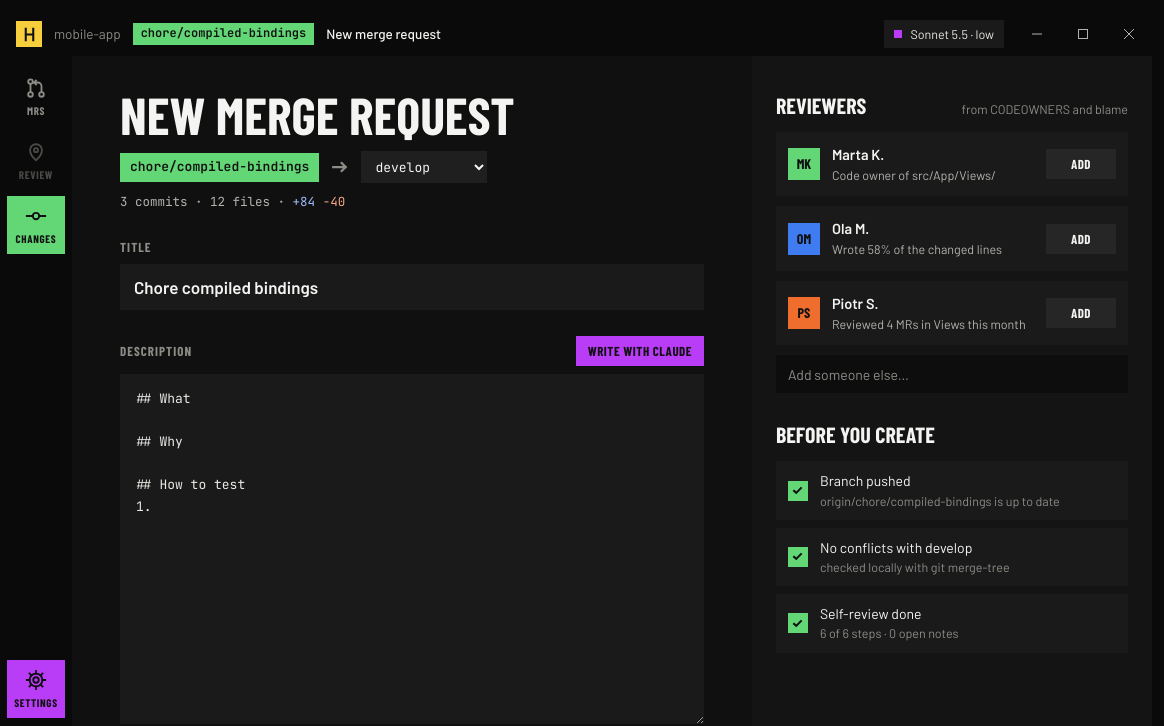
Test: S-11 title and description (F-27.2) › F-27.2 Shorter version and Longer version regenerate; the slot offers the other one next
The image size is (1164, 726).
Check: the field labelled "Title" is not empty, box top-left (120, 264), bottom-right (704, 310)
Click the button "Write with Claude" at [640, 351], box top-left (576, 336), bottom-right (704, 366)
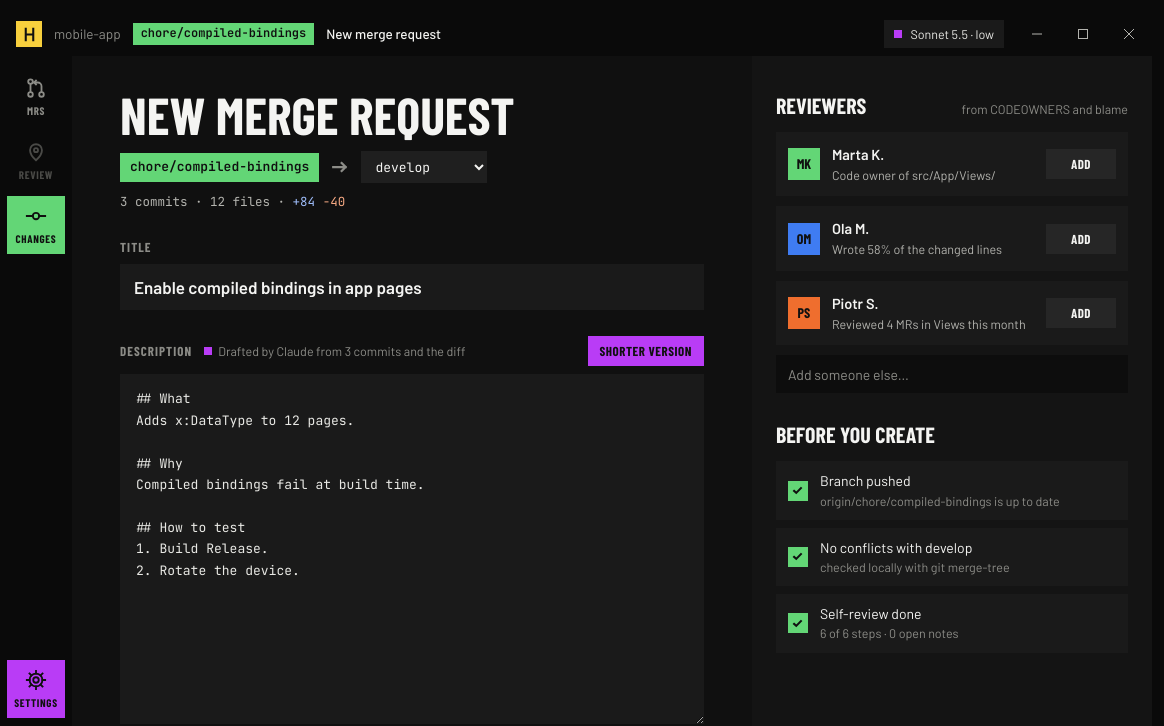
Check: the button "Shorter version" is shown
Click the button "Shorter version" at [646, 351], box top-left (588, 336), bottom-right (704, 366)
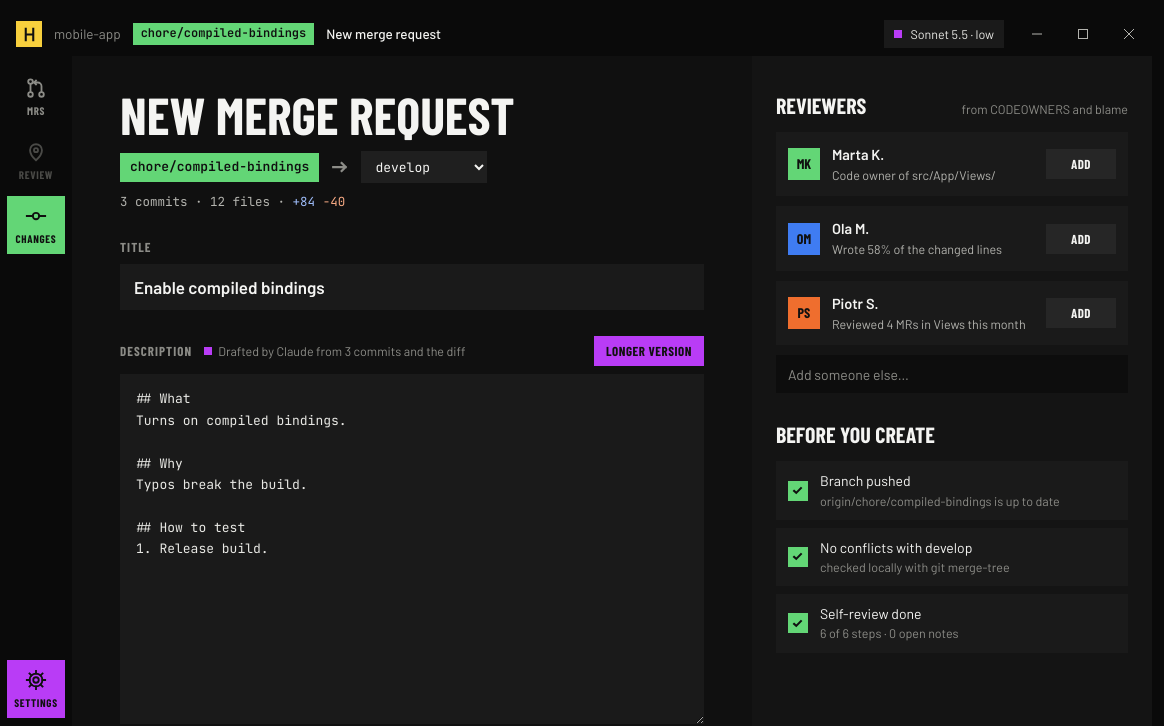
Check: the field labelled "Title" holds "Enable compiled bindings", box top-left (120, 264), bottom-right (704, 310)
Click the button "Longer version" at [649, 351], box top-left (594, 336), bottom-right (704, 366)
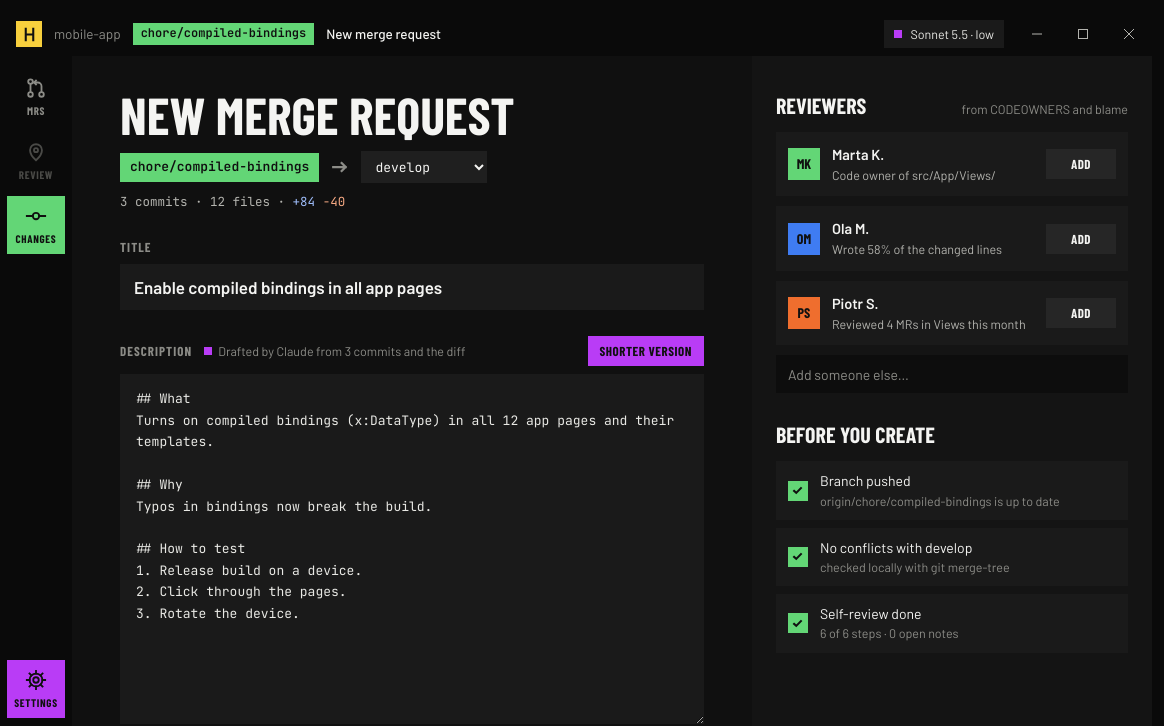
Check: the button "Shorter version" is enabled, box top-left (588, 336), bottom-right (704, 366)
Check: the text "Drafted by Claude from 3 commits and the diff" is shown, box top-left (204, 342), bottom-right (466, 360)
Check: the field labelled "Title" holds "Enable compiled bindings in all app pages", box top-left (120, 264), bottom-right (704, 310)
